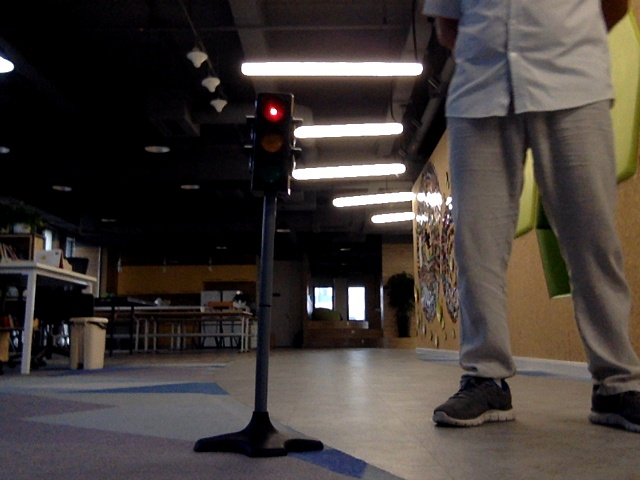red: (256, 95, 287, 190)
